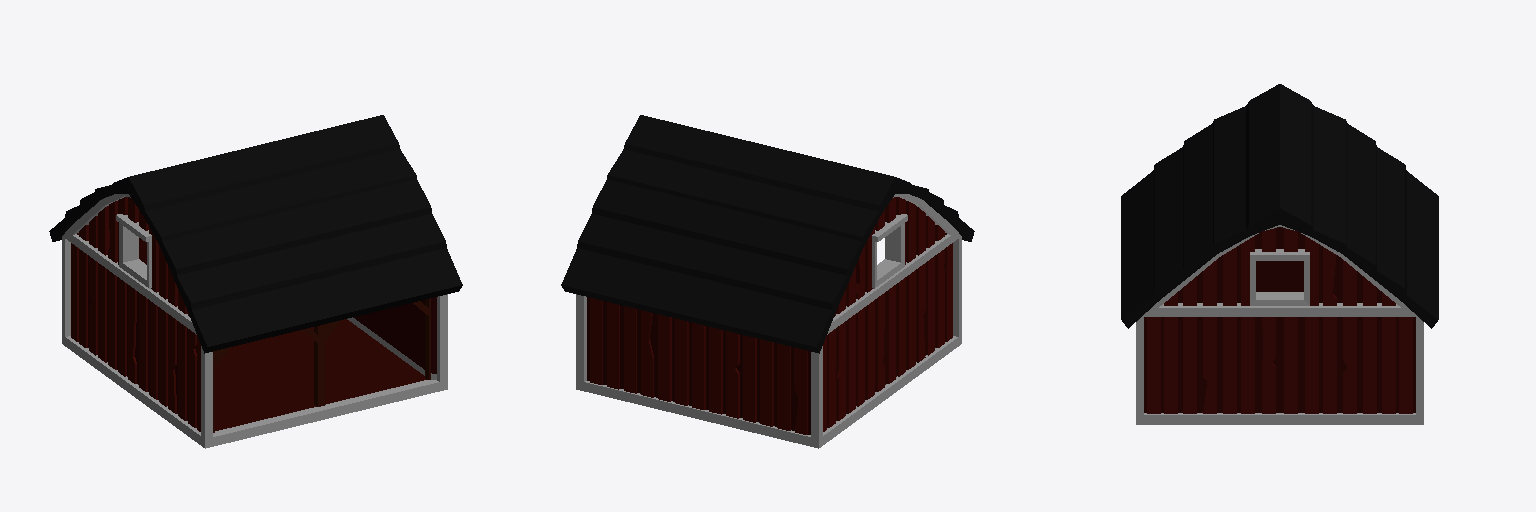
File: OpenBarn_Cube.obj
3 views of the same model, side by side, from view 1: azimuth 30°, elevation 25°; view 2: azimuth 150°, elevation 25°; view 3: azimuth 270°, elevation 25° (orthographic).
Visible parts, largest first — view 1: OpenBarn_Cube; view 2: OpenBarn_Cube; view 3: OpenBarn_Cube.
Part boxes in pixels (left/top/right/bottom): OpenBarn_Cube: left=49, top=115, right=462, bottom=448; OpenBarn_Cube: left=561, top=115, right=974, bottom=448; OpenBarn_Cube: left=1121, top=84, right=1438, bottom=424.
Bounding box in the file's own units: 5.74 × 4.74 × 6.18.